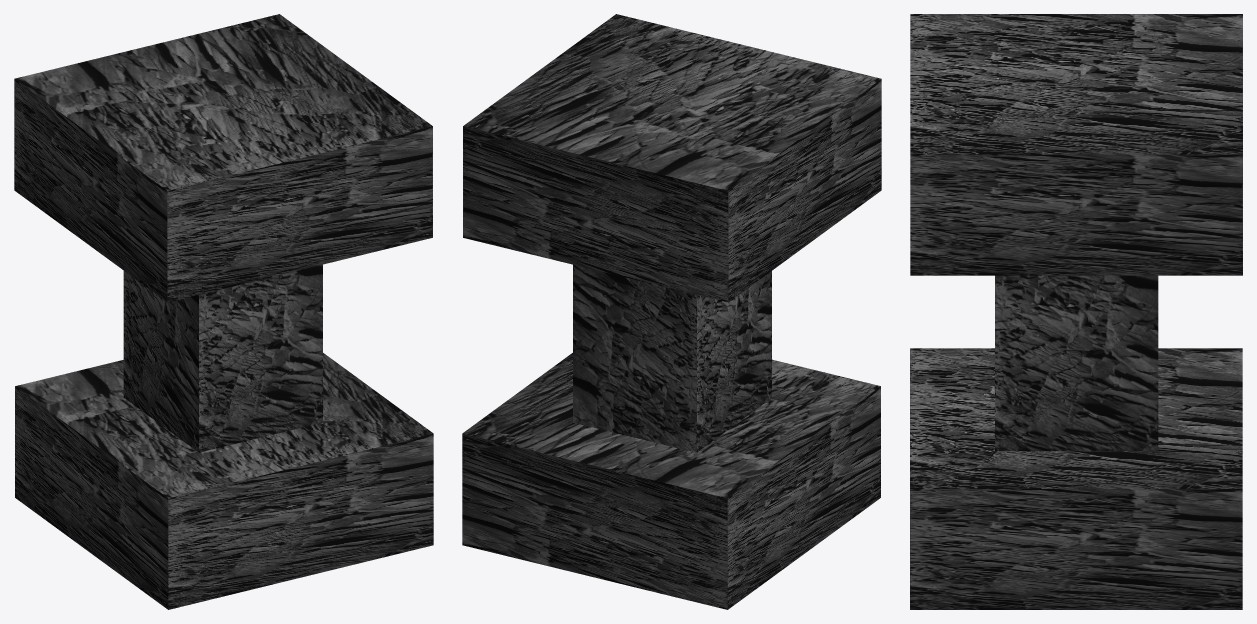
Rendered from Pilla.obj.
3 renders of one model, left to right at view 1: azimuth 30°, elevation 25°; view 2: azimuth 150°, elevation 25°; view 3: azimuth 270°, elevation 25°, orthographic. The views are drawn at different scales.
Parts seen in each view (by area): view 1: Cube.002; view 2: Cube.002; view 3: Cube.002.
Boxes of the visible parts, x1,y1,x2,y2 form: Cube.002: (14,14,433,609); Cube.002: (462,14,881,609); Cube.002: (910,14,1242,609).
Bounding box in the file's own units: 2.01 × 3.02 × 2.
